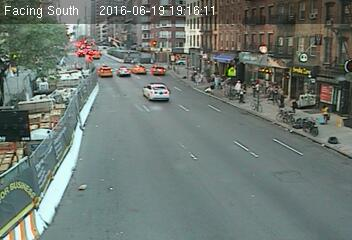neg: (168, 53, 180, 70), (70, 24, 78, 35), (142, 29, 149, 39)
pos: (319, 103, 335, 124), (235, 77, 243, 88), (253, 80, 261, 91)
